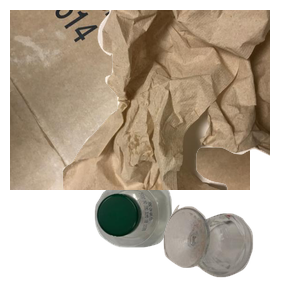cardboard: (10, 10, 250, 190)
glass: (161, 202, 300, 300)
plastic: (92, 176, 257, 300)
trash: (60, 10, 300, 190)
